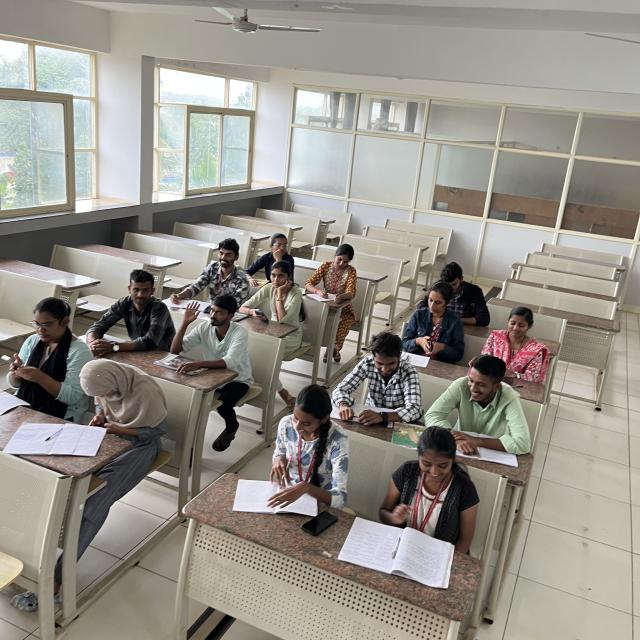Hand Rising: (170, 293, 247, 371)
Reading: (363, 424, 475, 542), (432, 354, 530, 465), (330, 332, 426, 416)
Using Phone: (0, 300, 78, 399), (76, 353, 169, 435), (402, 282, 465, 357), (418, 265, 490, 324), (242, 264, 298, 323)
Writing: (267, 382, 351, 511), (164, 235, 240, 308), (305, 242, 359, 302)
